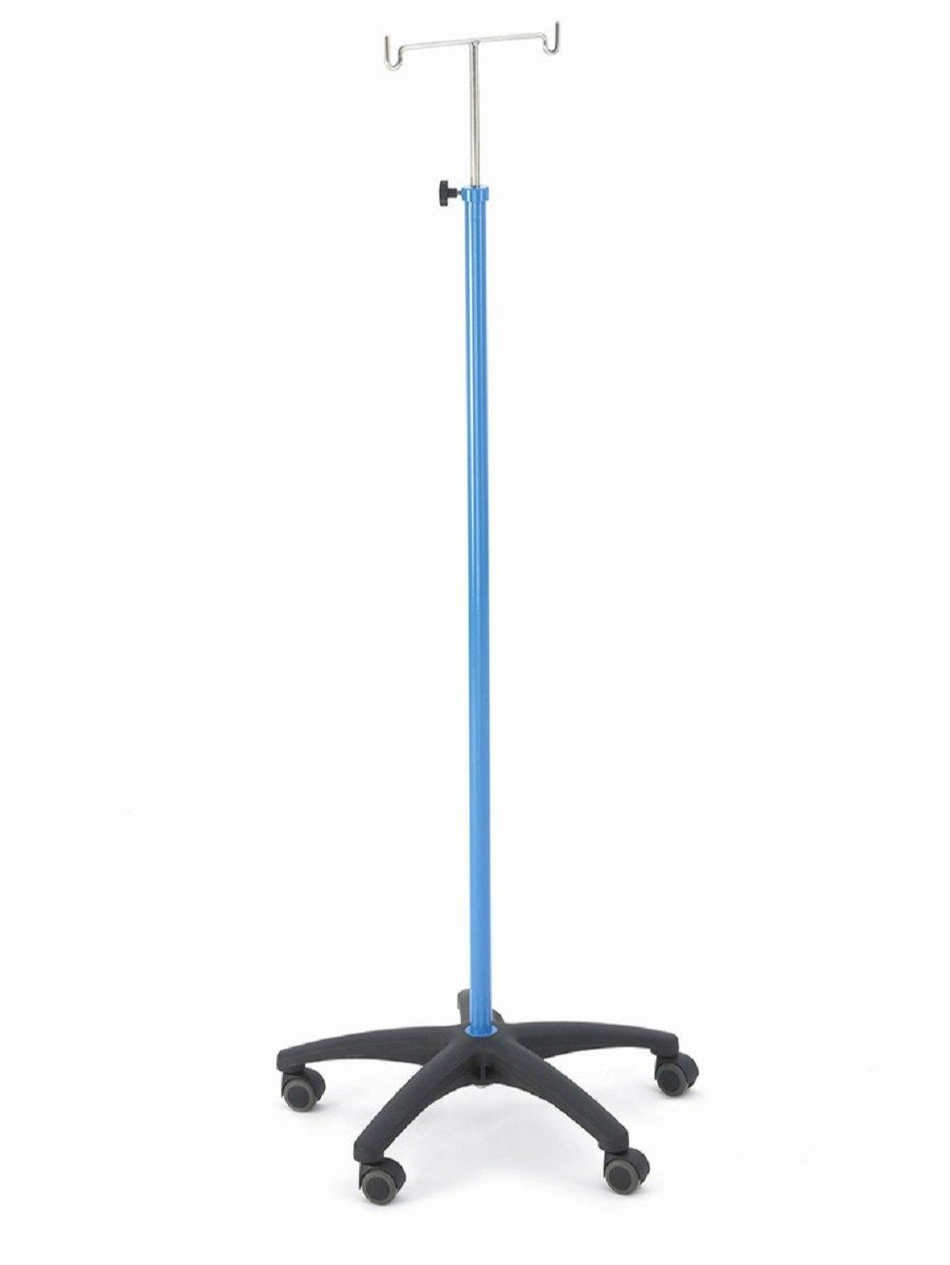Saline Stand: (274, 19, 699, 1204)
